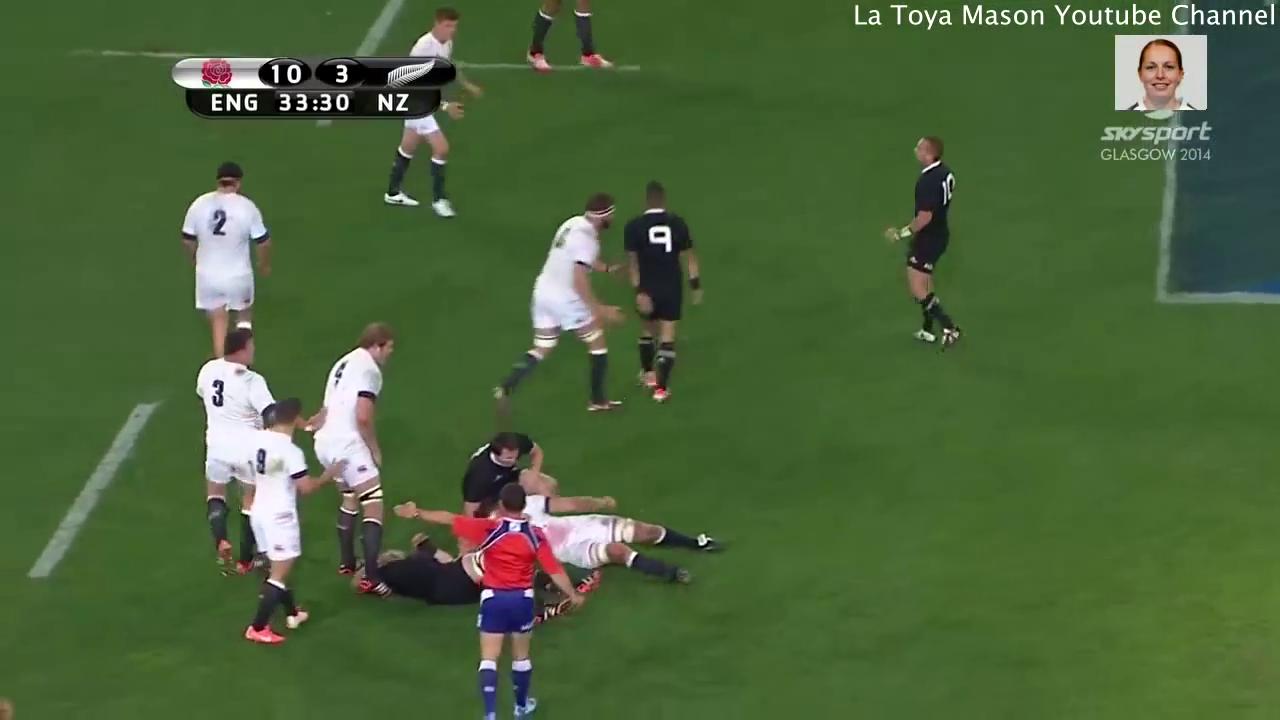player: (385, 481, 590, 720), (477, 175, 630, 422), (388, 497, 733, 592), (305, 312, 409, 615), (370, 1, 495, 220), (610, 168, 713, 417), (873, 128, 983, 361), (182, 325, 277, 581), (231, 386, 316, 650), (172, 162, 277, 375), (440, 421, 561, 526), (515, 1, 623, 77)
